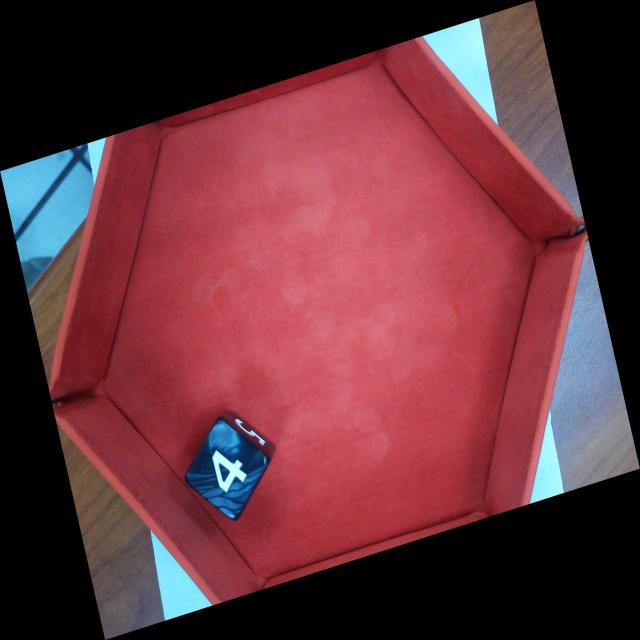dice: (185, 417, 272, 527)
